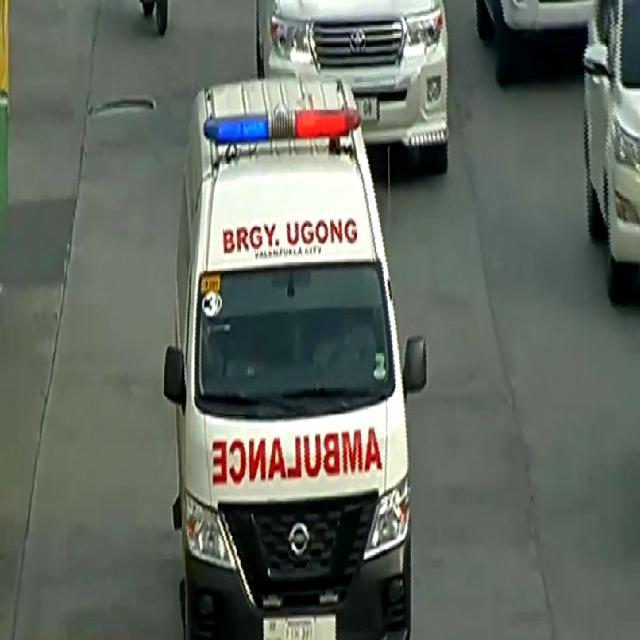emergency: (160, 66, 432, 639)
